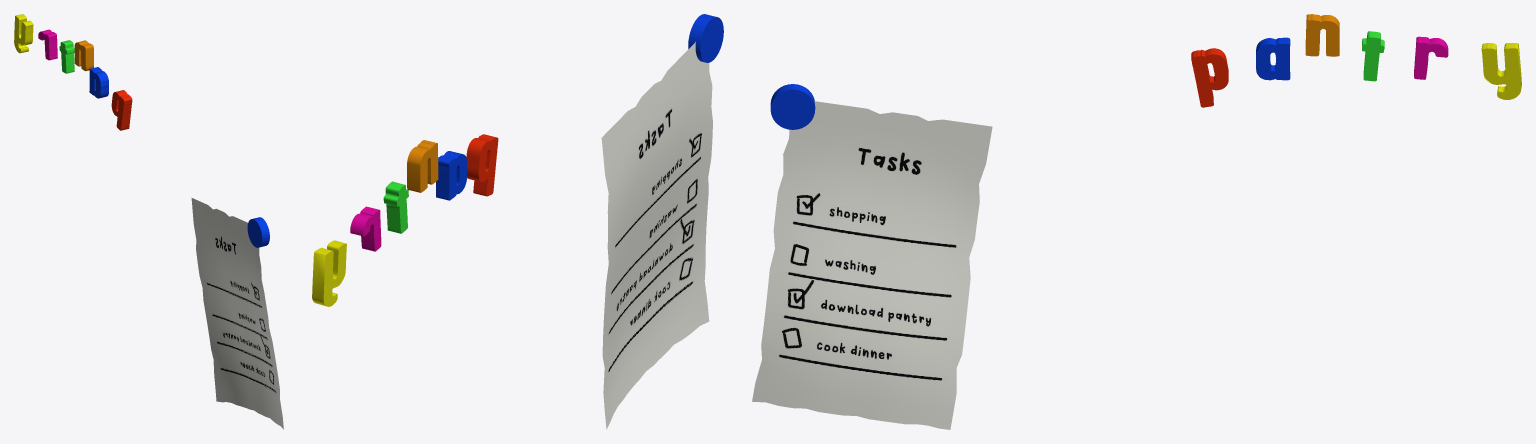
The model's file is magnets.glb.
The picture shows the model from 3 angles, left to right: view 1: azimuth 30°, elevation 25°; view 2: azimuth 150°, elevation 25°; view 3: azimuth 270°, elevation 25°; orthographic projection. The views are drawn at different scales.
Visible parts, largest first — view 1: Plane.001, P, Y, Cylinder, A, N, T, R; view 2: Plane.001, Y, P, N, Cylinder, A, T, R; view 3: Plane.001, Y, Cylinder, P, A, N, R, T.
Part boxes in pixels (x1,y1,x2,y2): Plane.001: [191, 198, 283, 429]; P: [111, 90, 132, 130]; Y: [14, 14, 33, 53]; Cylinder: [247, 217, 269, 247]; A: [89, 67, 108, 98]; N: [74, 40, 93, 71]; T: [59, 40, 74, 73]; R: [38, 29, 57, 60]; Plane.001: [601, 42, 712, 429]; Y: [312, 240, 346, 306]; P: [466, 134, 498, 196]; N: [407, 140, 438, 192]; Cylinder: [688, 14, 723, 62]; A: [436, 151, 466, 200]; T: [383, 181, 408, 233]; R: [350, 206, 381, 251]; Plane.001: [752, 101, 992, 429]; Y: [1481, 43, 1521, 99]; Cylinder: [770, 84, 815, 129]; P: [1191, 48, 1228, 107]; A: [1256, 37, 1290, 80]; N: [1305, 14, 1339, 56]; R: [1414, 36, 1448, 79]; T: [1362, 31, 1384, 81].
Bounding box in the file's own units: 0.052 × 0.6573 × 1.13.
7 materials, 1 textured.
